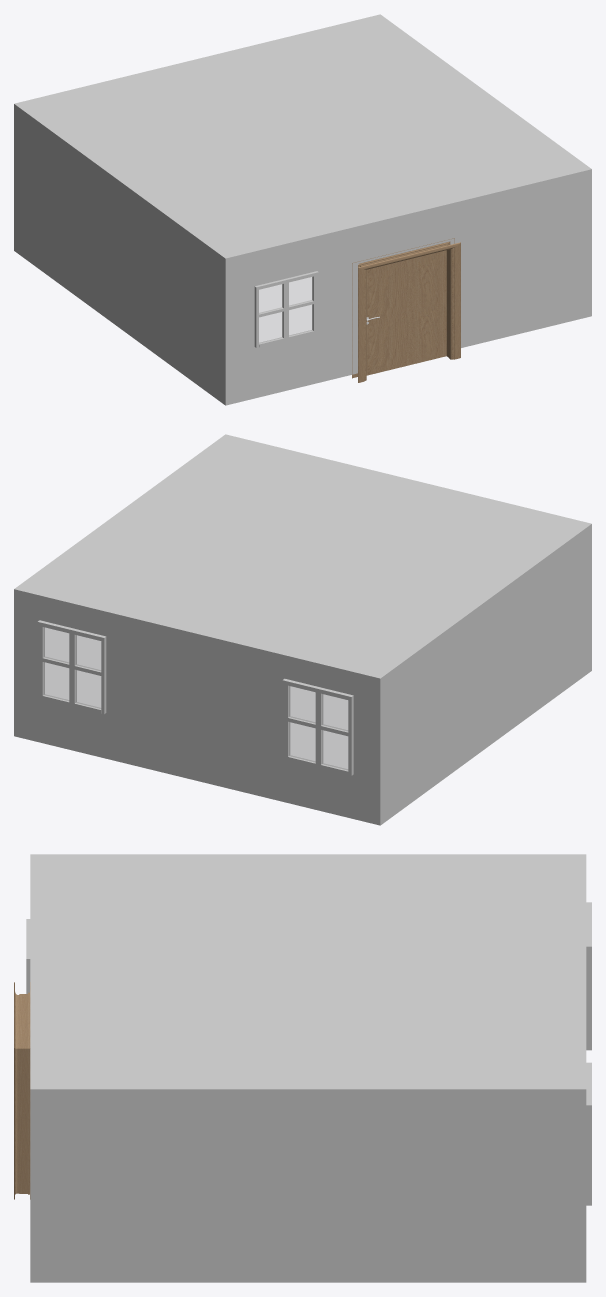
File: livingroom-shell(window).glb
3 renders of one model, top to bottom at view 1: azimuth 30°, elevation 25°; view 2: azimuth 150°, elevation 25°; view 3: azimuth 270°, elevation 25°, orthographic. The views are drawn at different scales.
Parts seen in each view (by area): view 1: ceiling, wallFront, wallLeft, door MF leaf, door MF frame, window_glass.001, window.002; view 2: ceiling, wallBack, wallLeft, window_glass.007, window_glass.003, window.001, window; view 3: ceiling, wallRight, door MF frame, window.001, window.
Boxes of the visible parts, <box> form: ceiling: <box>14,14,591,258</box>; wallFront: <box>225,169,591,405</box>; wallLeft: <box>14,104,225,405</box>; door MF leaf: <box>366,250,446,375</box>; door MF frame: <box>352,238,460,382</box>; window_glass.001: <box>259,277,312,343</box>; window.002: <box>254,271,318,347</box>; ceiling: <box>14,434,591,678</box>; wallBack: <box>14,589,380,825</box>; wallLeft: <box>380,524,591,825</box>; window_glass.007: <box>289,686,347,770</box>; window_glass.003: <box>44,627,100,708</box>; window.001: <box>282,678,353,775</box>; window: <box>37,620,106,714</box>; ceiling: <box>30,854,586,1089</box>; wallRight: <box>30,1089,586,1282</box>; door MF frame: <box>14,982,30,1199</box>; window.001: <box>586,902,591,1050</box>; window: <box>586,1062,591,1205</box>.
Bounding box in the file's own units: 13.81 × 5.43 × 14.35.
Materials: 3 (1 with a texture image).
